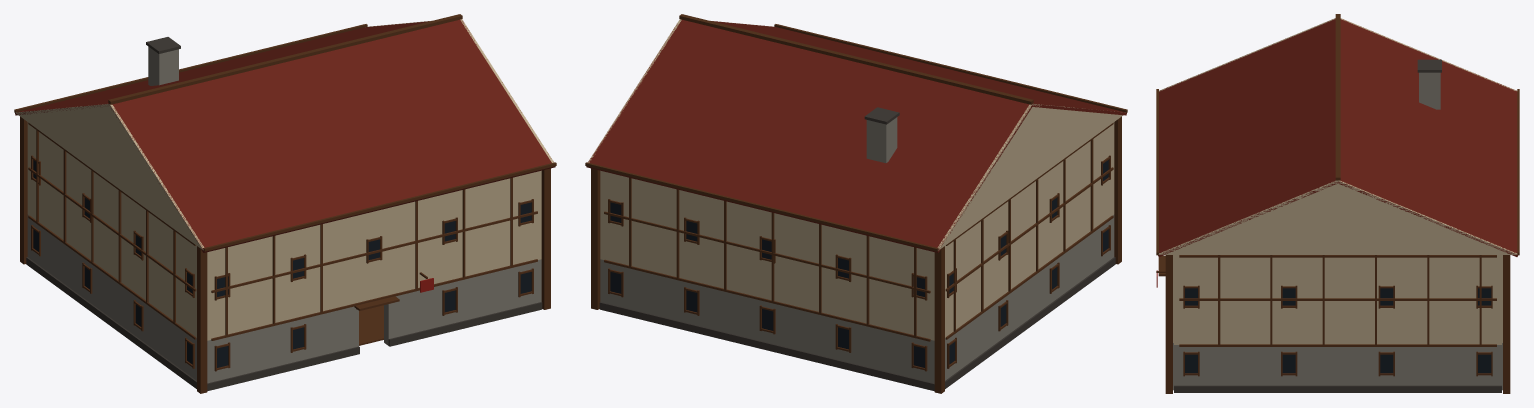
The model's file is tavern.glb.
3 views of the same model, side by side, from view 1: azimuth 30°, elevation 25°; view 2: azimuth 150°, elevation 25°; view 3: azimuth 270°, elevation 25° (orthographic). The views are drawn at different scales.
Visible parts, largest first — view 1: tavern_roof_dark, tavern_plaster, tavern_timber, tavern_stone, tavern_plinth, tavern_glass; view 2: tavern_roof_dark, tavern_plaster, tavern_timber, tavern_stone, tavern_plinth, tavern_glass; view 3: tavern_roof_dark, tavern_plaster, tavern_stone, tavern_timber, tavern_plinth, tavern_glass.
Boxes of the visible parts, x1=… form: tavern_roof_dark: x1=15, y1=19, x2=555, y2=252; tavern_plaster: x1=15, y1=19, x2=553, y2=340; tavern_timber: x1=14, y1=14, x2=556, y2=393; tavern_stone: x1=27, y1=46, x2=541, y2=383; tavern_plinth: x1=26, y1=37, x2=542, y2=391; tavern_glass: x1=33, y1=160, x2=531, y2=367; tavern_roof_dark: x1=586, y1=19, x2=1126, y2=252; tavern_plaster: x1=588, y1=19, x2=1125, y2=340; tavern_timber: x1=585, y1=14, x2=1127, y2=393; tavern_stone: x1=600, y1=117, x2=1114, y2=383; tavern_plinth: x1=599, y1=107, x2=1115, y2=391; tavern_glass: x1=610, y1=160, x2=1108, y2=367; tavern_roof_dark: x1=1158, y1=19, x2=1517, y2=256; tavern_plaster: x1=1158, y1=18, x2=1517, y2=344; tavern_stone: x1=1173, y1=72, x2=1502, y2=390; tavern_timber: x1=1156, y1=14, x2=1519, y2=393; tavern_plinth: x1=1174, y1=59, x2=1501, y2=392; tavern_glass: x1=1185, y1=288, x2=1491, y2=373.
Size of the model in its own units: 18.9 by 11.66 by 17.73.
